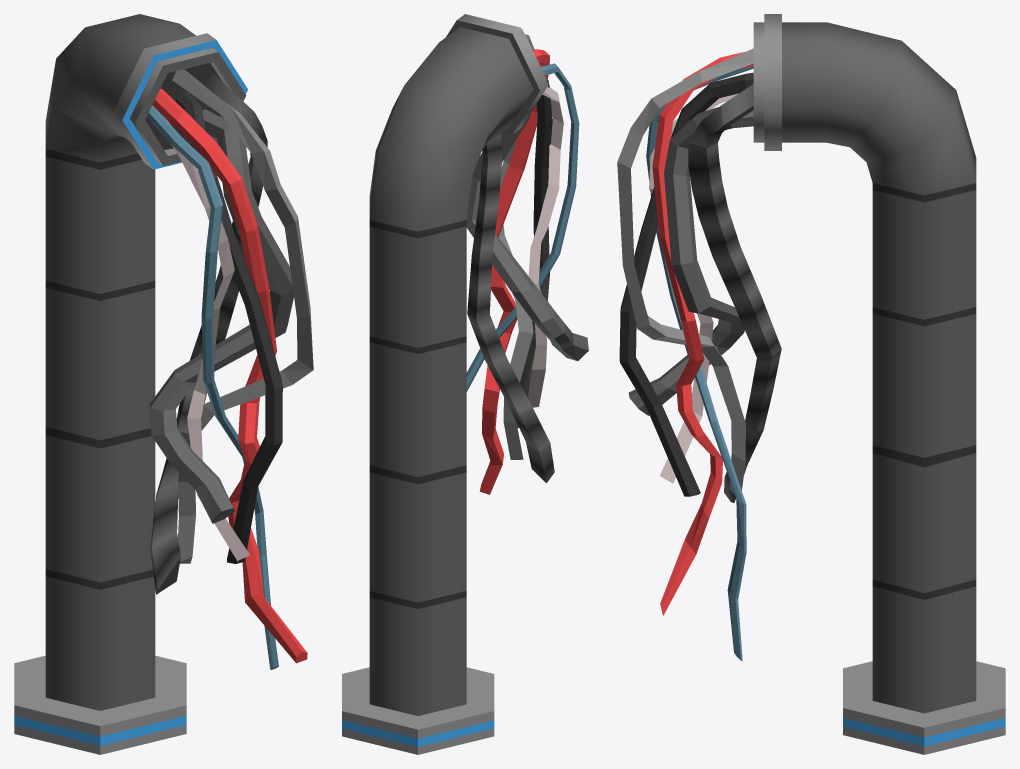
Rendered from Cables_cracked.FBX.
3 renders of one model, left to right at view 1: azimuth 30°, elevation 25°; view 2: azimuth 150°, elevation 25°; view 3: azimuth 270°, elevation 25°, orthographic. The views are drawn at different scales.
Parts seen in each view (by area): view 1: Cables_Cracked, Cables_Part01, Cables_Part14, Cables_Part11, Cables_Part12, Cables_Part17, Cables_Part13, Cables_Part10, Cables_Part05, Cables_Part06, Cables_Part07, Cables_Part03 (+8 smaller); view 2: Cables_Cracked, Cables_Part15, Cables_Part14, Cables_Part12, Cables_Part17, Cables_Part19, Cables_Part10, Cables_Part03, Cables_Part06, Cables_Part08, Cables_Part11, Cables_Part18 (+6 smaller); view 3: Cables_Cracked, Cables_Part15, Cables_Part13, Cables_Part01, Cables_Part10, Cables_Part03, Cables_Part04, Cables_Part16, Cables_Part14, Cables_Part05, Cables_Part17, Cables_Part09 (+6 smaller).
Boxes of the visible parts, x1,y1,x2,y2 form: Cables_Cracked: (14,14,280,754); Cables_Part01: (264,152,313,370); Cables_Part14: (150,389,191,594); Cables_Part11: (150,409,234,523); Cables_Part12: (149,324,284,434); Cables_Part17: (201,208,259,513); Cables_Part13: (224,191,293,332); Cables_Part10: (230,180,276,401); Cables_Part05: (244,306,282,487); Cables_Part06: (221,208,282,385); Cables_Part07: (245,549,307,663); Cables_Part03: (178,370,313,516); Cables_Cracked: (342,14,578,754); Cables_Part15: (467,134,502,364); Cables_Part14: (468,315,554,483); Cables_Part12: (466,220,563,338); Cables_Part17: (466,88,579,391); Cables_Part19: (528,123,563,287); Cables_Part10: (492,76,548,284); Cables_Part03: (498,235,533,422); Cables_Part06: (534,100,552,225); Cables_Part08: (482,365,502,463); Cables_Part11: (532,318,588,360); Cables_Part18: (528,284,546,407); Cables_Cracked: (643,14,1005,754); Cables_Part15: (692,165,781,393); Cables_Part13: (664,146,710,313); Cables_Part01: (617,99,665,336); Cables_Part10: (652,119,704,358); Cables_Part03: (638,324,745,461); Cables_Part04: (621,361,700,496); Cables_Part16: (712,425,746,661); Cables_Part14: (724,357,773,502); Cables_Part05: (619,234,658,405); Cables_Part17: (646,121,745,504); Cables_Part09: (676,323,715,456).
Bounding box in the file's own units: 48.37 × 195 × 100.
Materials: 1 (1 with a texture image).
